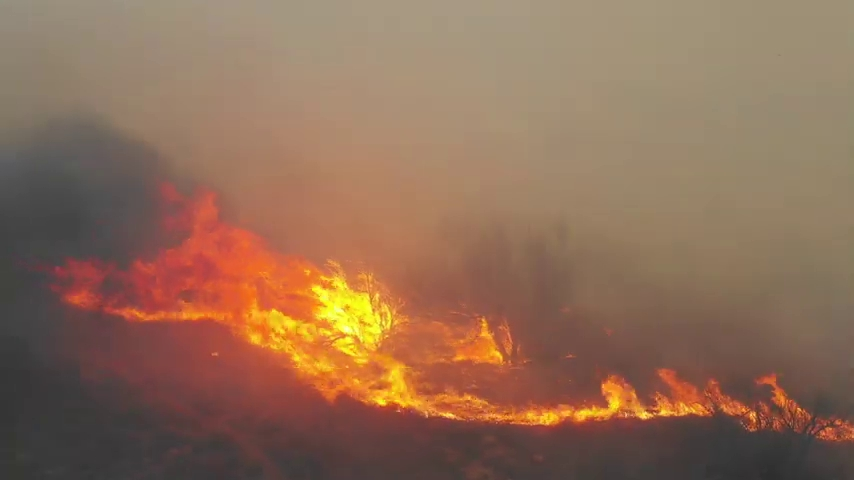forest_fire: (52, 185, 853, 438)
